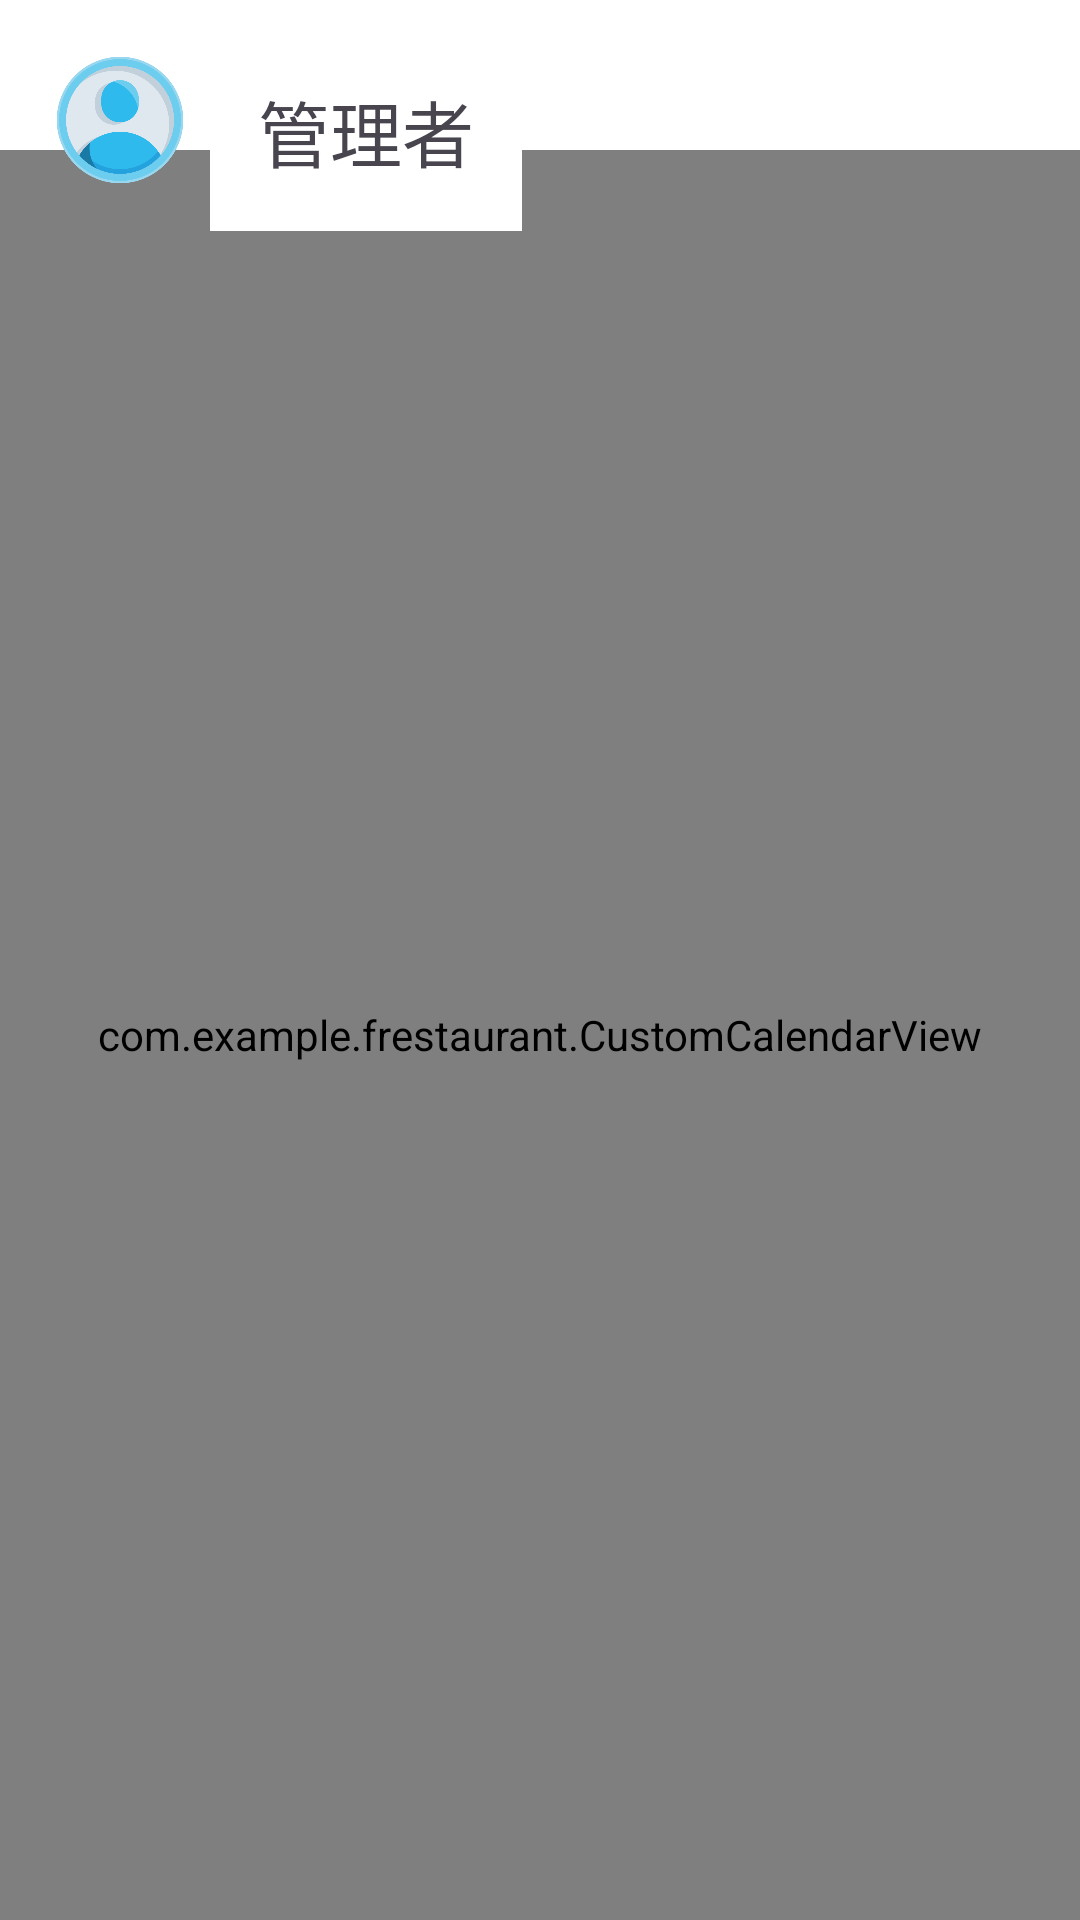

Screen size 1080×1920. Icon name, then its center in pixels as (x,y):
profilework: (120,120)
